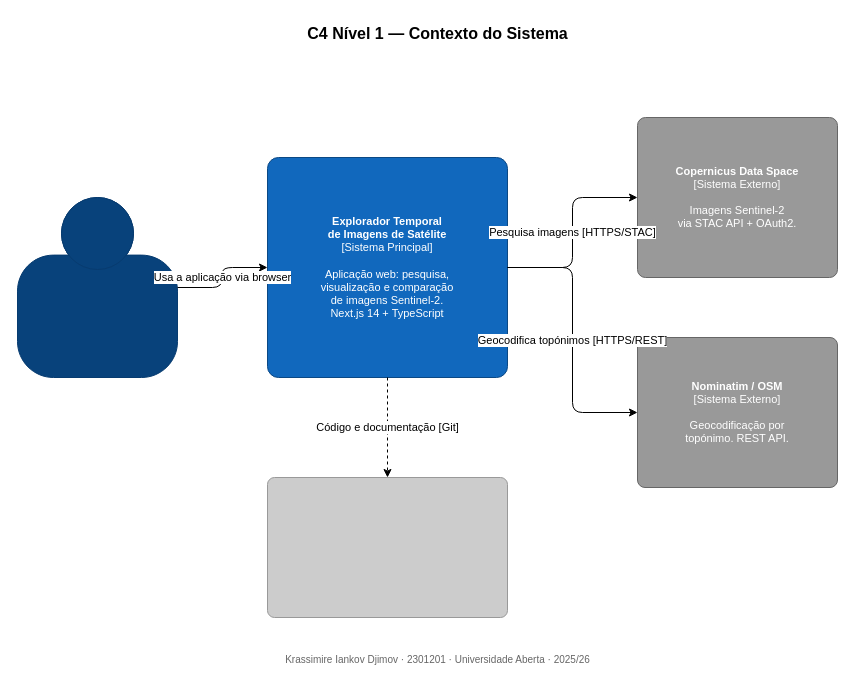
Image size: 855x684. Some labels were removed from this diagram. The shapes that lost their labels are listed below. From the top down, each one's centre as x and y in pixels, then its label:
At [97,287]: "Utilizador Final [Pessoa] Cidadão sem formação técnica em SIG. Usa o browser.".
At [387,547]: "GitHub [Suporte] Código, documentação, changelog, ADRs.".
